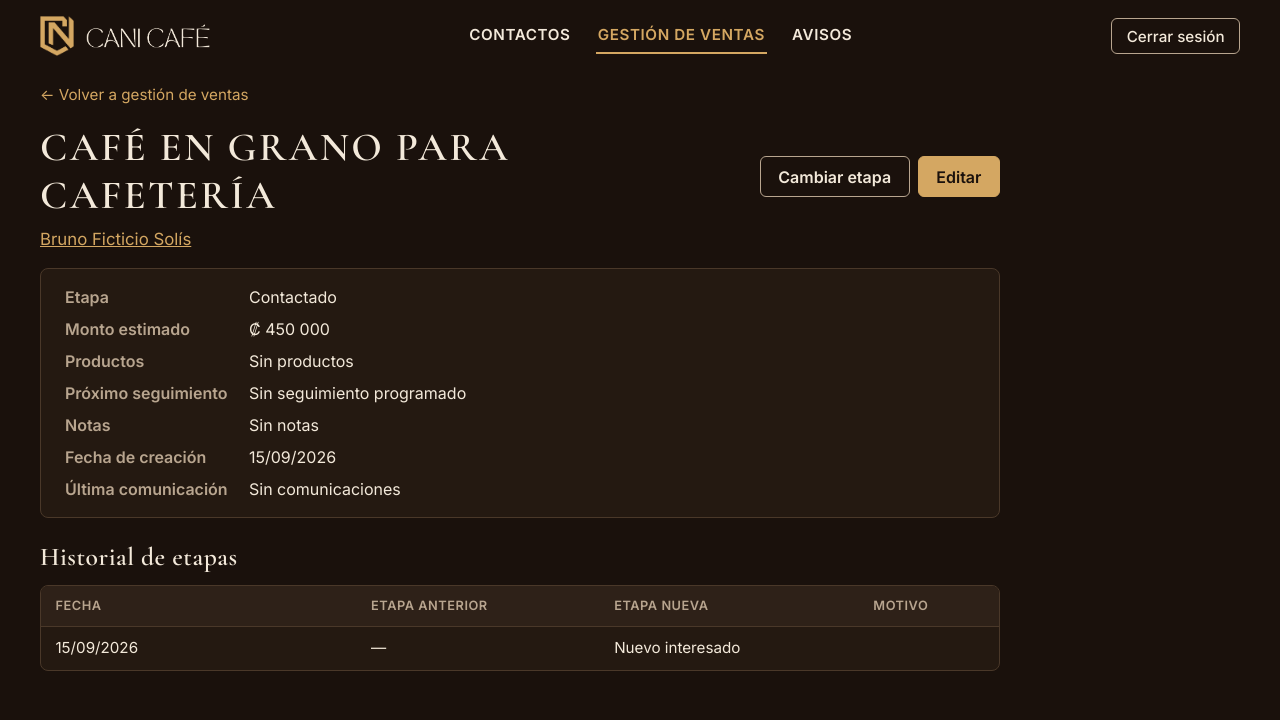
Test: HU-310 ventana "Cambiar etapa" › muestra las seis etapas y deja marcada la actual
Click the button "Cambiar etapa" at {"x": 835, "y": 177}, box [760, 156, 910, 197]
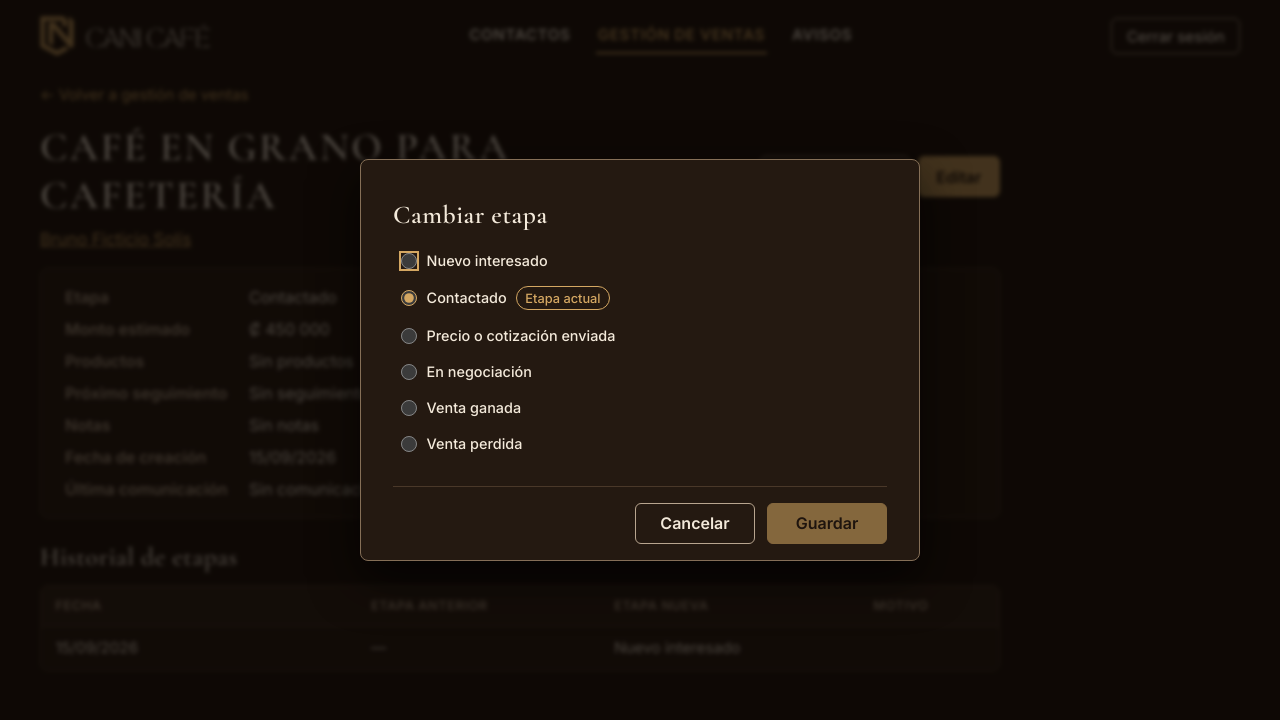
Result: the radio button labelled "Contactado Etapa actual" is checked at [401, 290, 417, 306]
